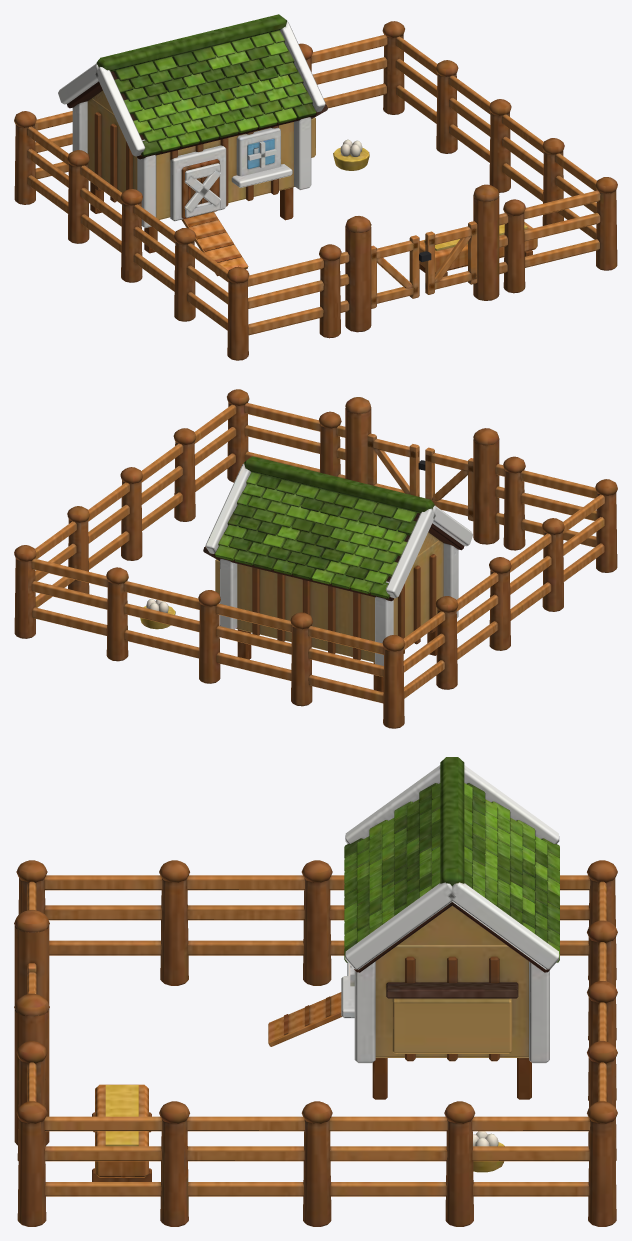
Rendered from guinea_run.glb.
3 views of the same model, one above another, from view 1: azimuth 30°, elevation 25°; view 2: azimuth 150°, elevation 25°; view 3: azimuth 270°, elevation 25° (orthographic). The views are drawn at different scales.
Visible parts, largest first — view 1: guinea_run; view 2: guinea_run; view 3: guinea_run.
Part boxes in pixels (x1,y1,x2,y2): guinea_run: (14,14,617,360); guinea_run: (14,389,617,728); guinea_run: (14,757,617,1226).
Bounding box in the file's own units: 2 × 0.8813 × 2.01.
1 material, 1 textured.
